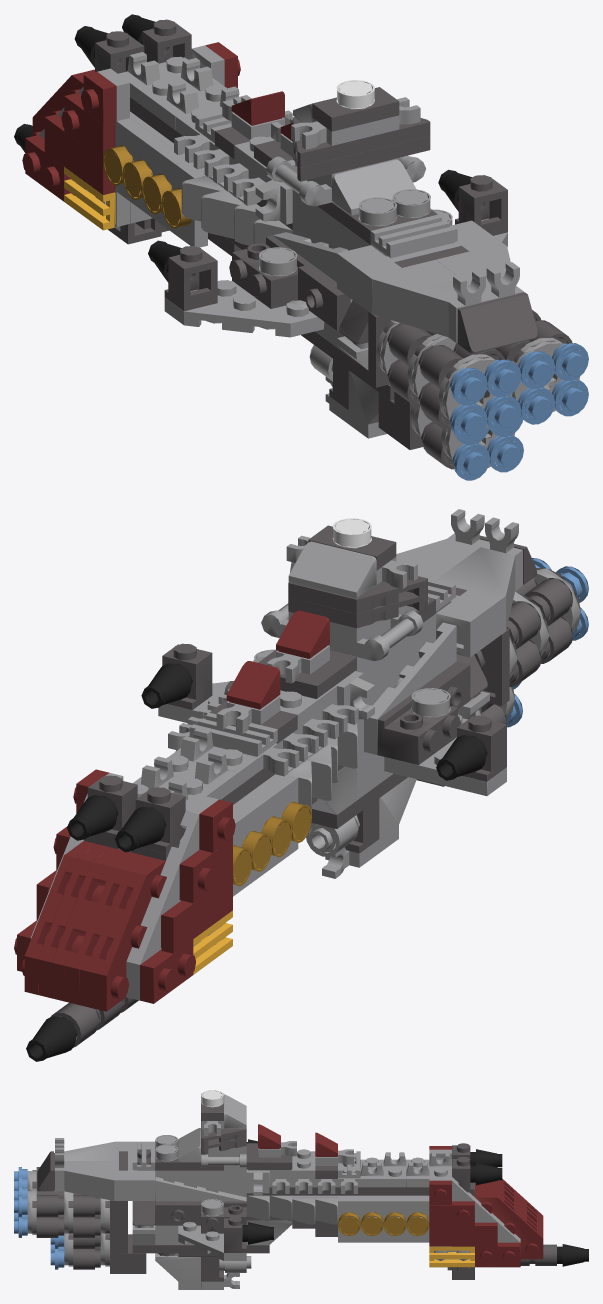
The model's file is MarsClassCruiser.fbx.
The picture shows the model from 3 angles, top to bottom: view 1: azimuth 30°, elevation 25°; view 2: azimuth 150°, elevation 25°; view 3: azimuth 270°, elevation 25°; orthographic projection. The views are drawn at different scales.
Visible parts, largest first — view 1: 00001_3665.dat; view 2: 00001_3665.dat; view 3: 00001_3665.dat.
Part boxes in pixels (bbox=[...]): 00001_3665.dat: bbox=[14, 14, 588, 480]; 00001_3665.dat: bbox=[14, 509, 588, 1061]; 00001_3665.dat: bbox=[14, 1090, 588, 1289].
Bounding box in the file's own units: 1.92 × 1.86 × 5.04.
